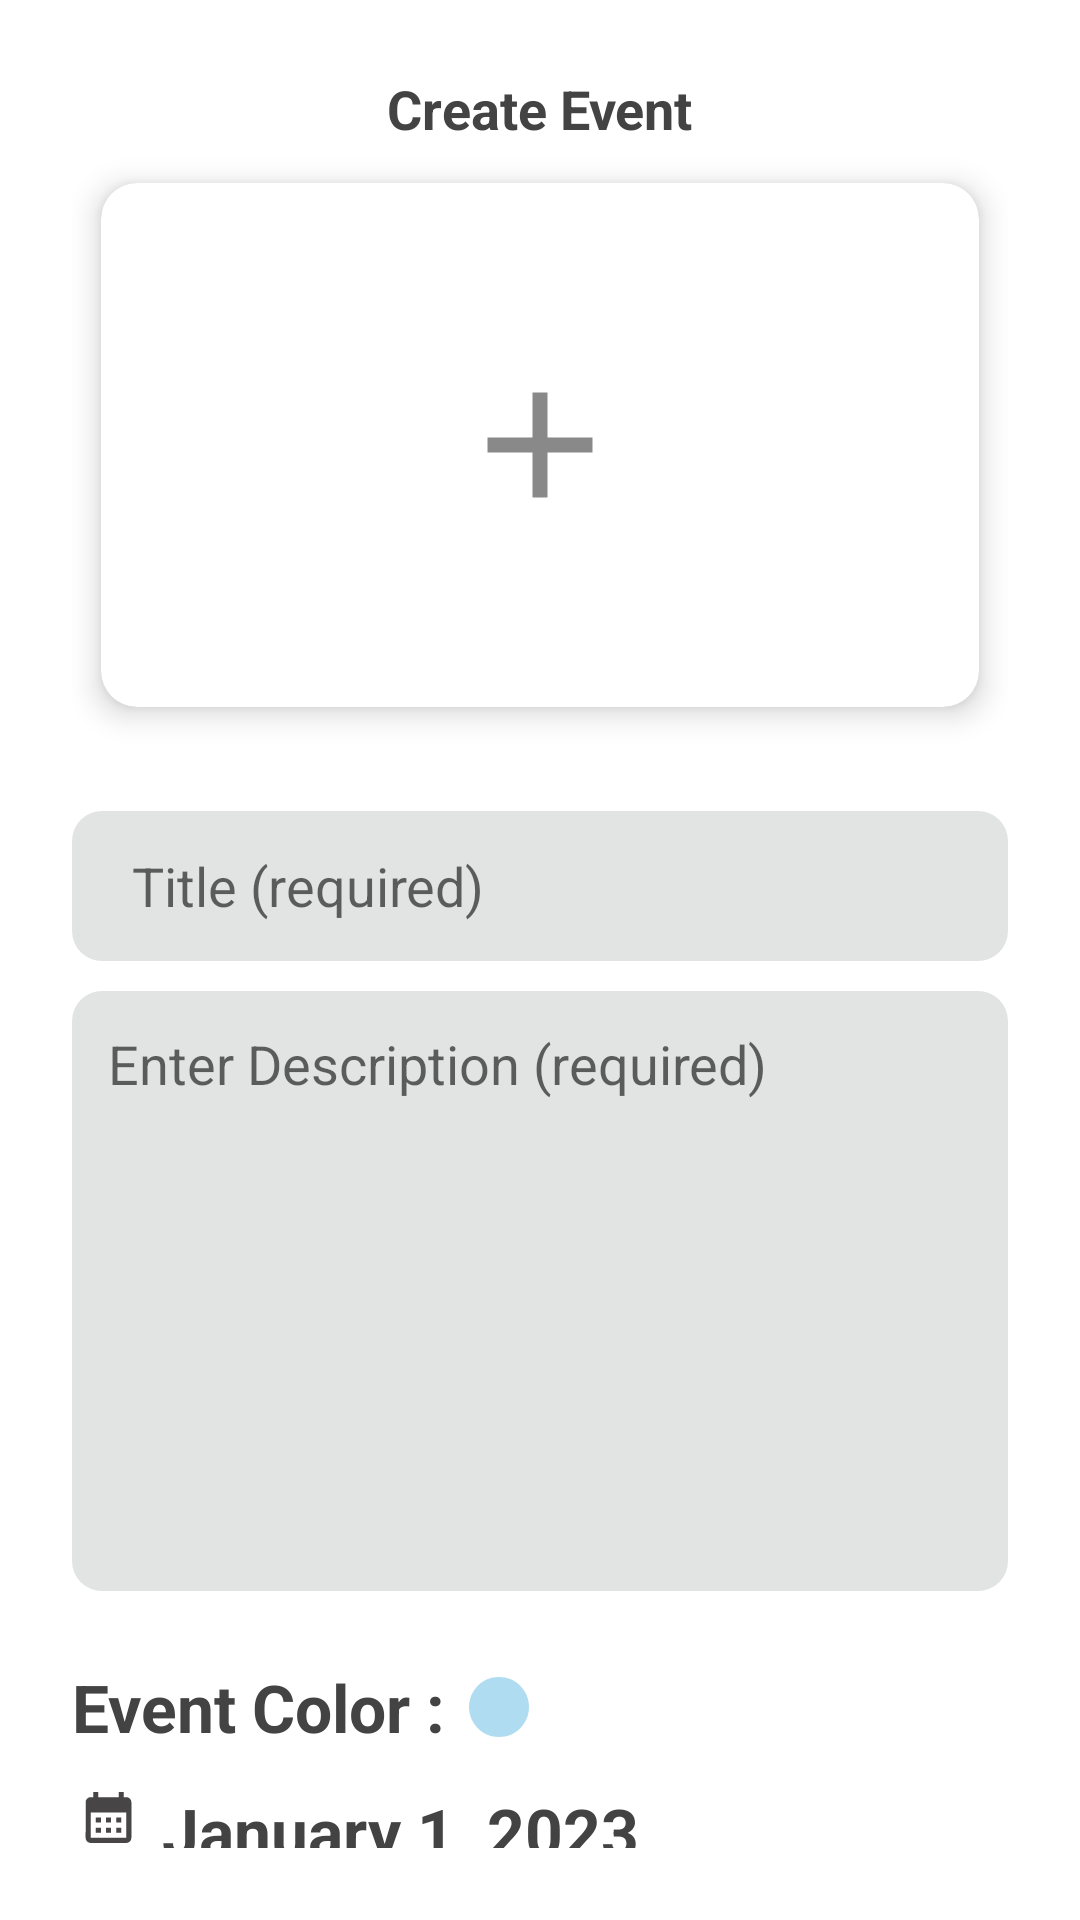

Locate icon controls on the screen. Image size 1080px×1920px, boxes as (x1, y1, x2, y2).
add: (487, 392, 593, 498)
calendar month: (85, 1792, 132, 1843)
